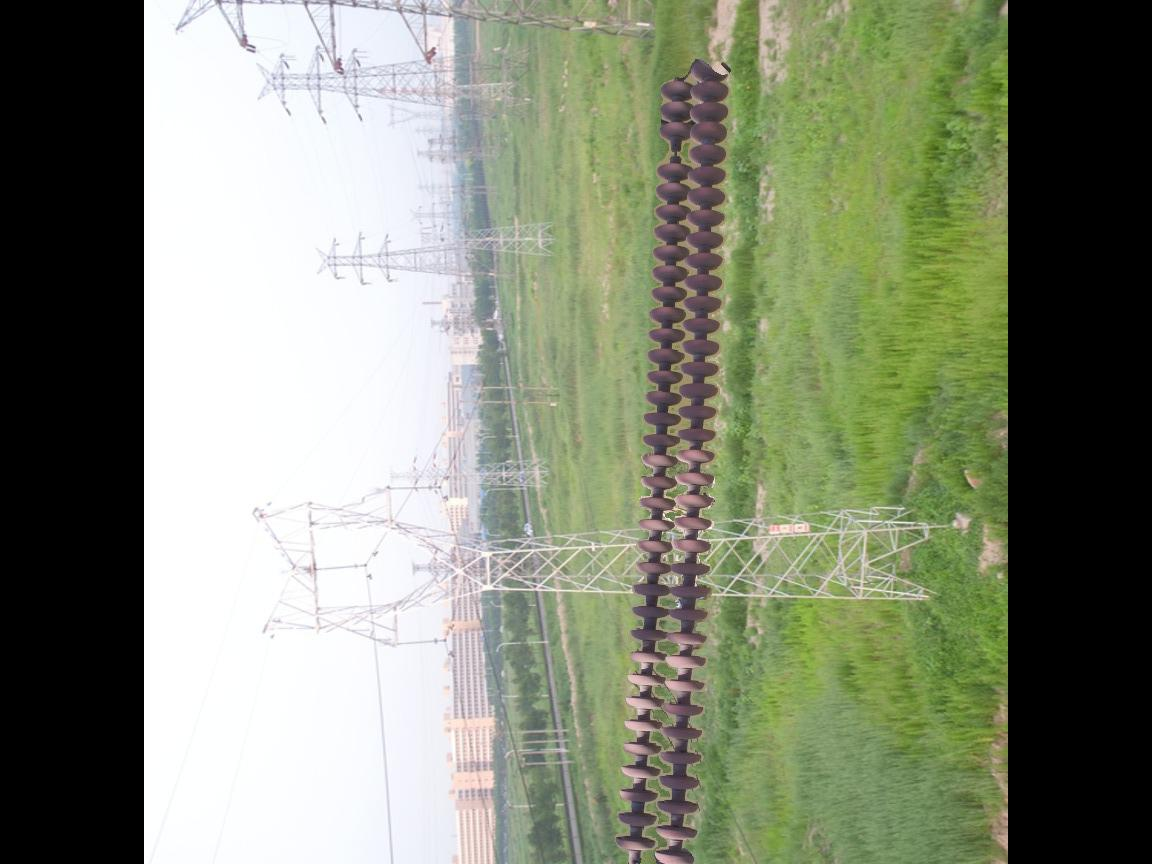insulator: (610, 60, 737, 864)
insulator_stringdrop: (654, 118, 693, 183)
